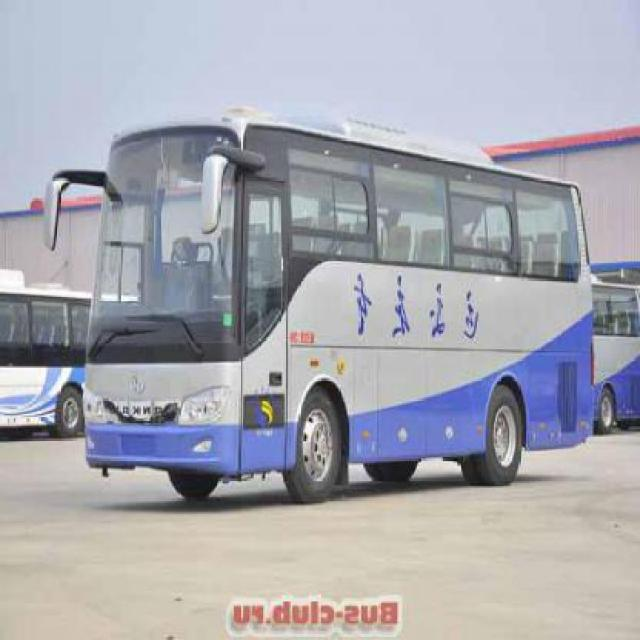bus: (42, 106, 596, 502)
